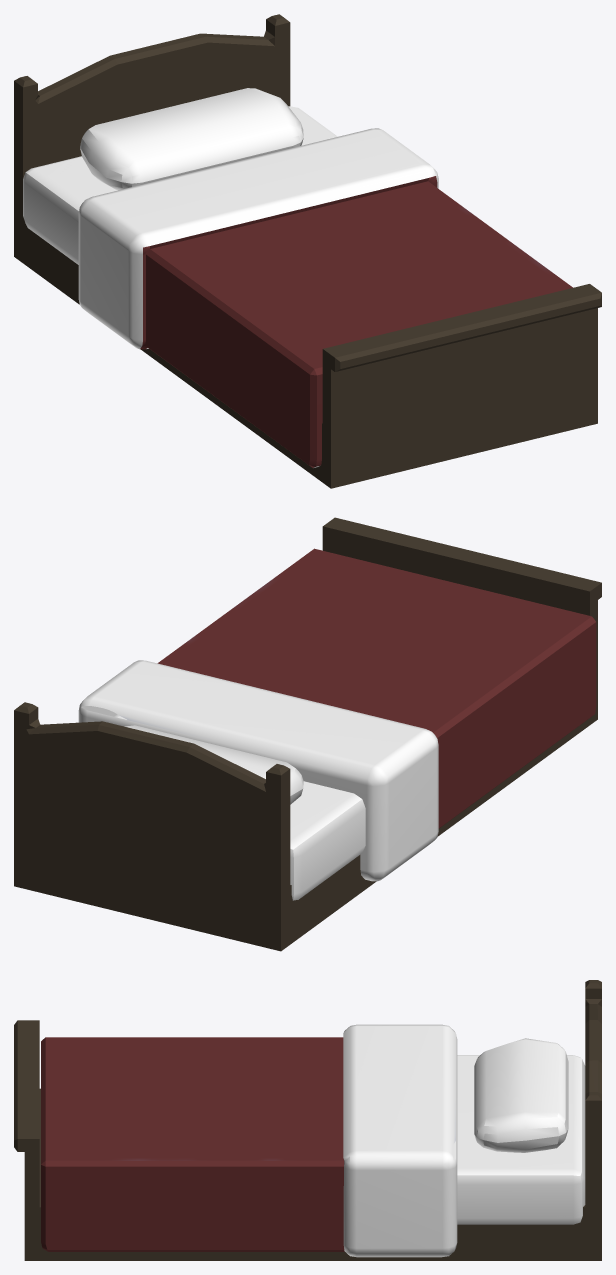
The model's file is TAMA_bed.fbx.
3 views of the same model, one above another, from view 1: azimuth 30°, elevation 25°; view 2: azimuth 150°, elevation 25°; view 3: azimuth 270°, elevation 25° (orthographic). The views are drawn at different scales.
Parts seen in each view (by area): view 1: pCube4, pCube1, pCube3, pCube2; view 2: pCube4, pCube1, pCube2, pCube3; view 3: pCube4, pCube1, pCube2, pCube3.
Part boxes in pixels (bbox=[...]): pCube4: bbox=[78, 128, 572, 467]; pCube1: bbox=[14, 14, 601, 488]; pCube3: bbox=[80, 88, 303, 190]; pCube2: bbox=[23, 106, 337, 264]; pCube4: bbox=[78, 548, 596, 881]; pCube1: bbox=[14, 517, 601, 951]; pCube2: bbox=[114, 714, 365, 900]; pCube3: bbox=[124, 725, 303, 804]; pCube4: bbox=[41, 1024, 457, 1257]; pCube1: bbox=[14, 980, 601, 1260]; pCube2: bbox=[452, 1055, 585, 1224]; pCube3: bbox=[474, 1038, 568, 1152].
Size of the model in its own units: 34.11 by 19.03 by 61.9.
